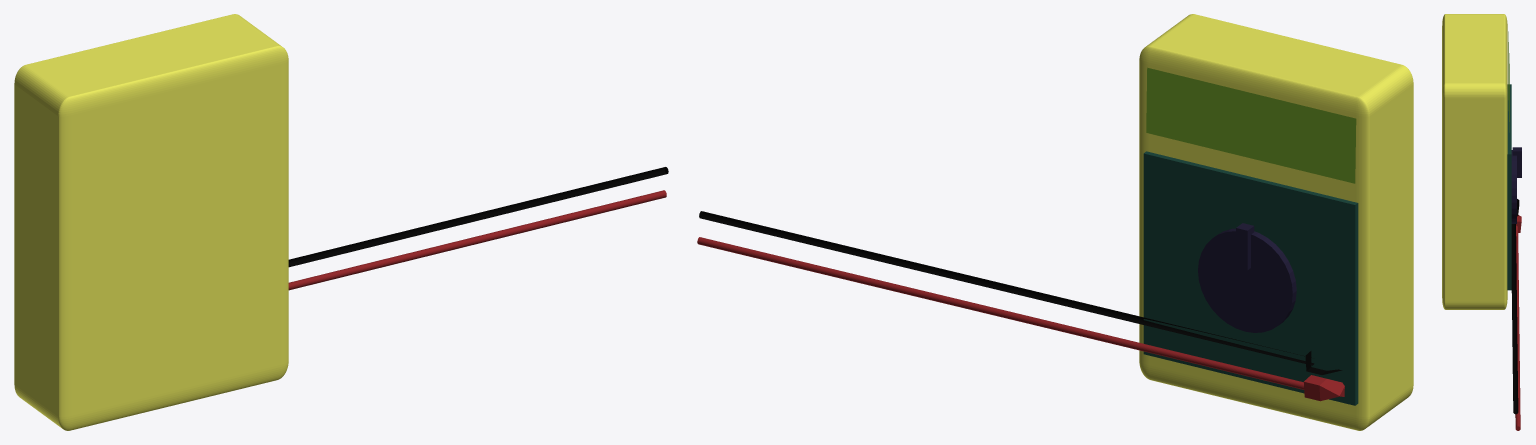
File: multimetr1.fbx
The picture shows the model from 3 angles, left to right: view 1: azimuth 30°, elevation 25°; view 2: azimuth 150°, elevation 25°; view 3: azimuth 270°, elevation 25°; orthographic projection. The views are drawn at different scales.
Visible parts, largest first — view 1: Cube, Cylinder, Cylinder.001; view 2: Cube, Cube.002, Plane, Cube.001, Cylinder.001, Cylinder; view 3: Cube, Cylinder, Cube.002, Cylinder.001, Cube.001, Plane.
Part boxes in pixels (x1,y1,x2,y2): Cube: (14,14,288,430); Cylinder: (288,167,668,267); Cylinder.001: (288,190,666,290); Cube: (1139,14,1413,430); Cube.002: (1143,151,1358,405); Plane: (1146,67,1356,183); Cube.001: (1198,223,1296,332); Cylinder.001: (697,237,1344,401); Cylinder: (699,211,1342,374); Cube: (1442,14,1507,309); Cylinder: (1511,199,1519,414); Cube.002: (1507,84,1511,290); Cylinder.001: (1515,215,1521,430); Cube.001: (1511,147,1521,223); Plane: (1508,31,1509,132).
Size of the model in its own units: 2143 by 1036 by 331.
